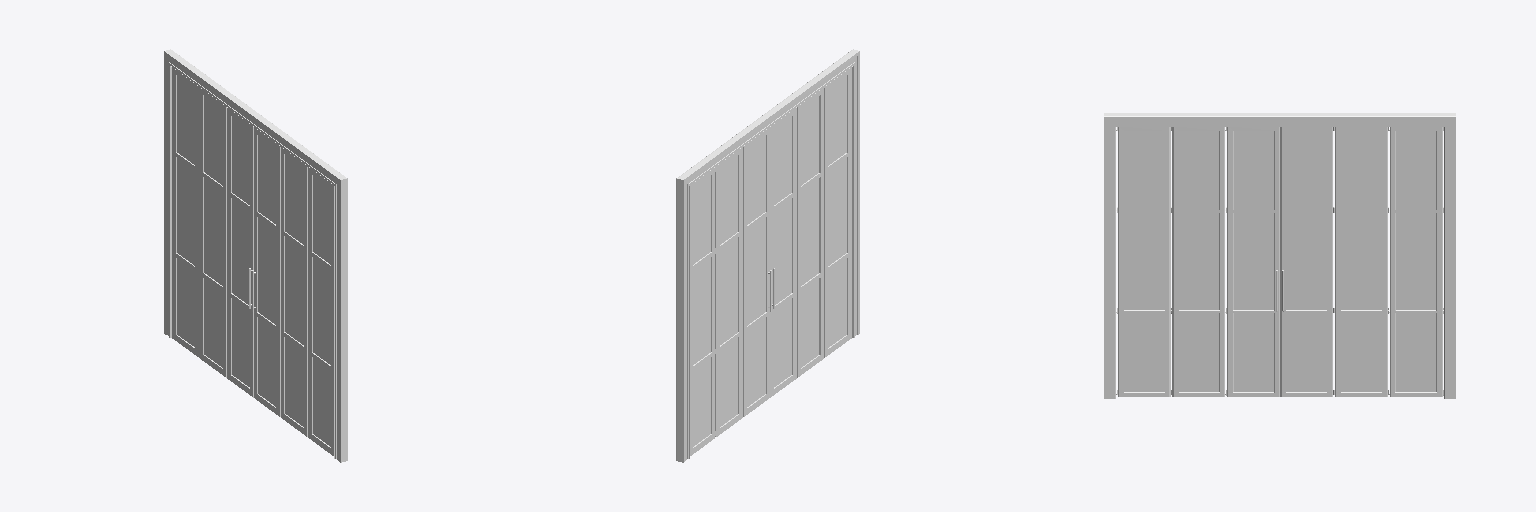
3 views of the same model, side by side, from view 1: azimuth 30°, elevation 25°; view 2: azimuth 150°, elevation 25°; view 3: azimuth 270°, elevation 25° (orthographic).
Visible parts, largest first — view 1: aws_FoldingDoor_01_visualMesh; view 2: aws_FoldingDoor_01_visualMesh; view 3: aws_FoldingDoor_01_visualMesh.
Part boxes in pixels (left/top/right/bottom): aws_FoldingDoor_01_visualMesh: left=164, top=49, right=347, bottom=462; aws_FoldingDoor_01_visualMesh: left=676, top=49, right=859, bottom=462; aws_FoldingDoor_01_visualMesh: left=1104, top=113, right=1455, bottom=398.
Size of the model in its own units: 0.09 by 2.21 by 2.5.